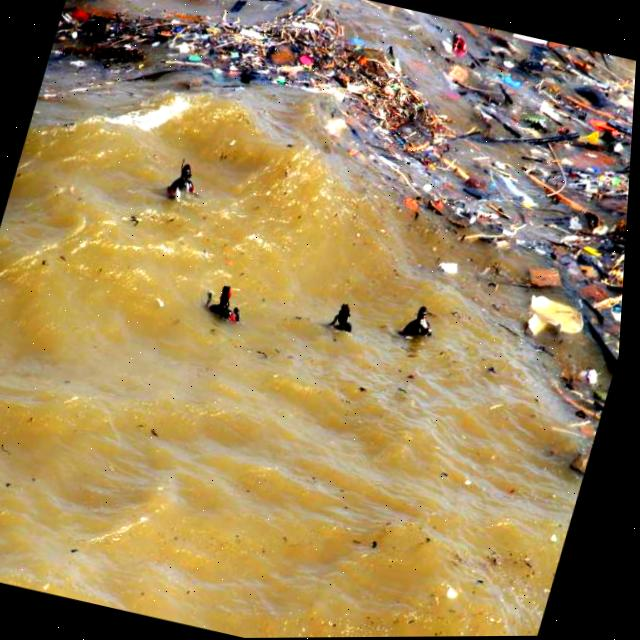civilian: (159, 147, 208, 201), (199, 280, 243, 326), (324, 293, 358, 338), (400, 301, 439, 335)
